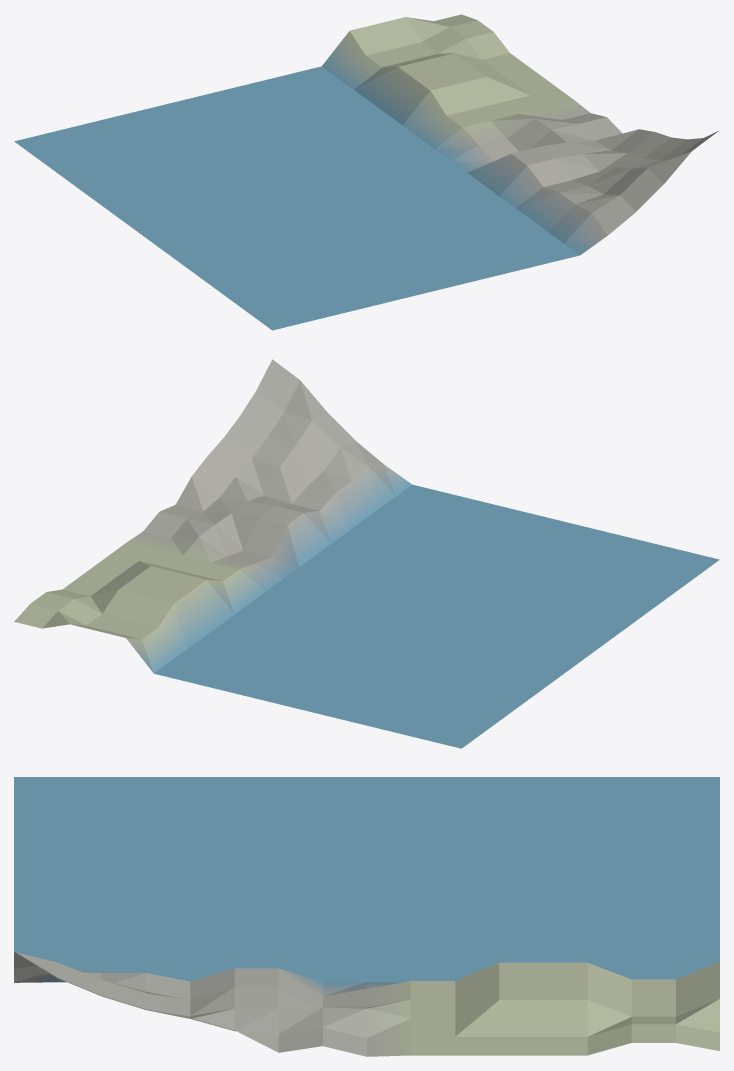
3 renders of one model, top to bottom at view 1: azimuth 30°, elevation 25°; view 2: azimuth 150°, elevation 25°; view 3: azimuth 270°, elevation 25°, orthographic. The views are drawn at different scales.
Size of the model in its own units: 32 by 6.23 by 32.
